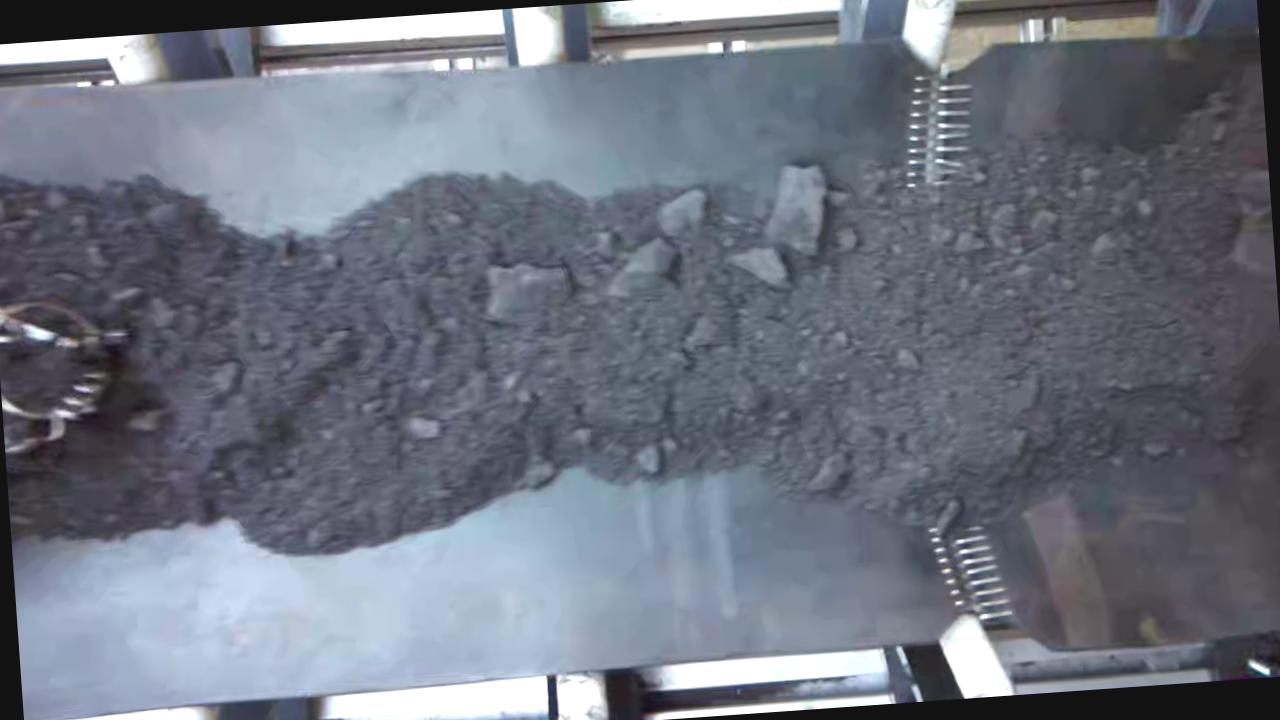conveyor: (0, 29, 1280, 694)
